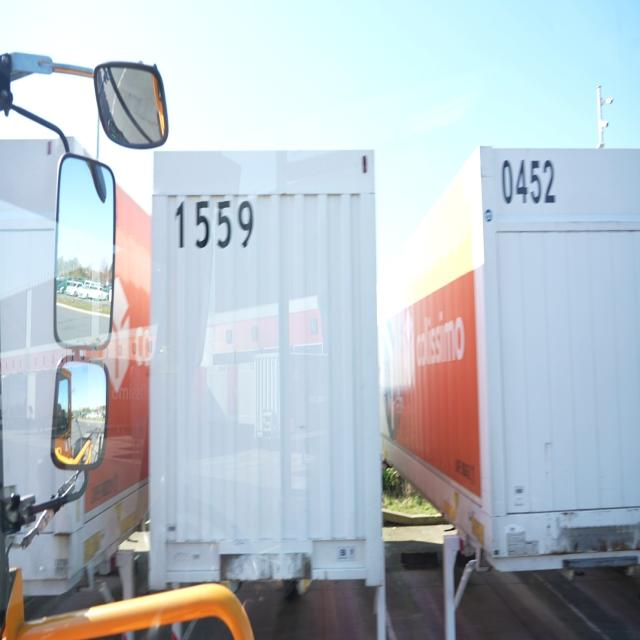Code: (173, 193, 259, 258), (498, 151, 558, 215)
